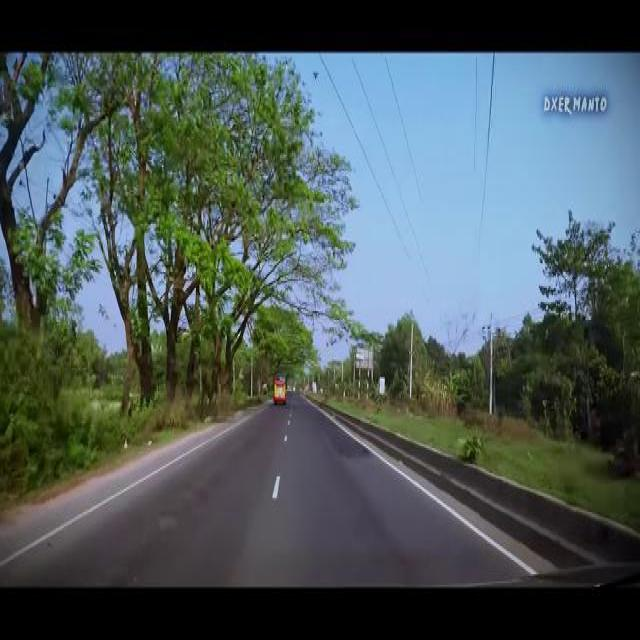Truck: (272, 370, 286, 405)
